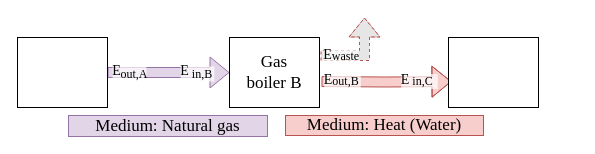
Some shapes in this 595 by 154 pixel diagram are drawn without their labels. Here are the shapes that lost their labels. From the top down, the centre of each, then its label:
(x=62, y=72): Public grid A
(x=493, y=72): Heating demand C
